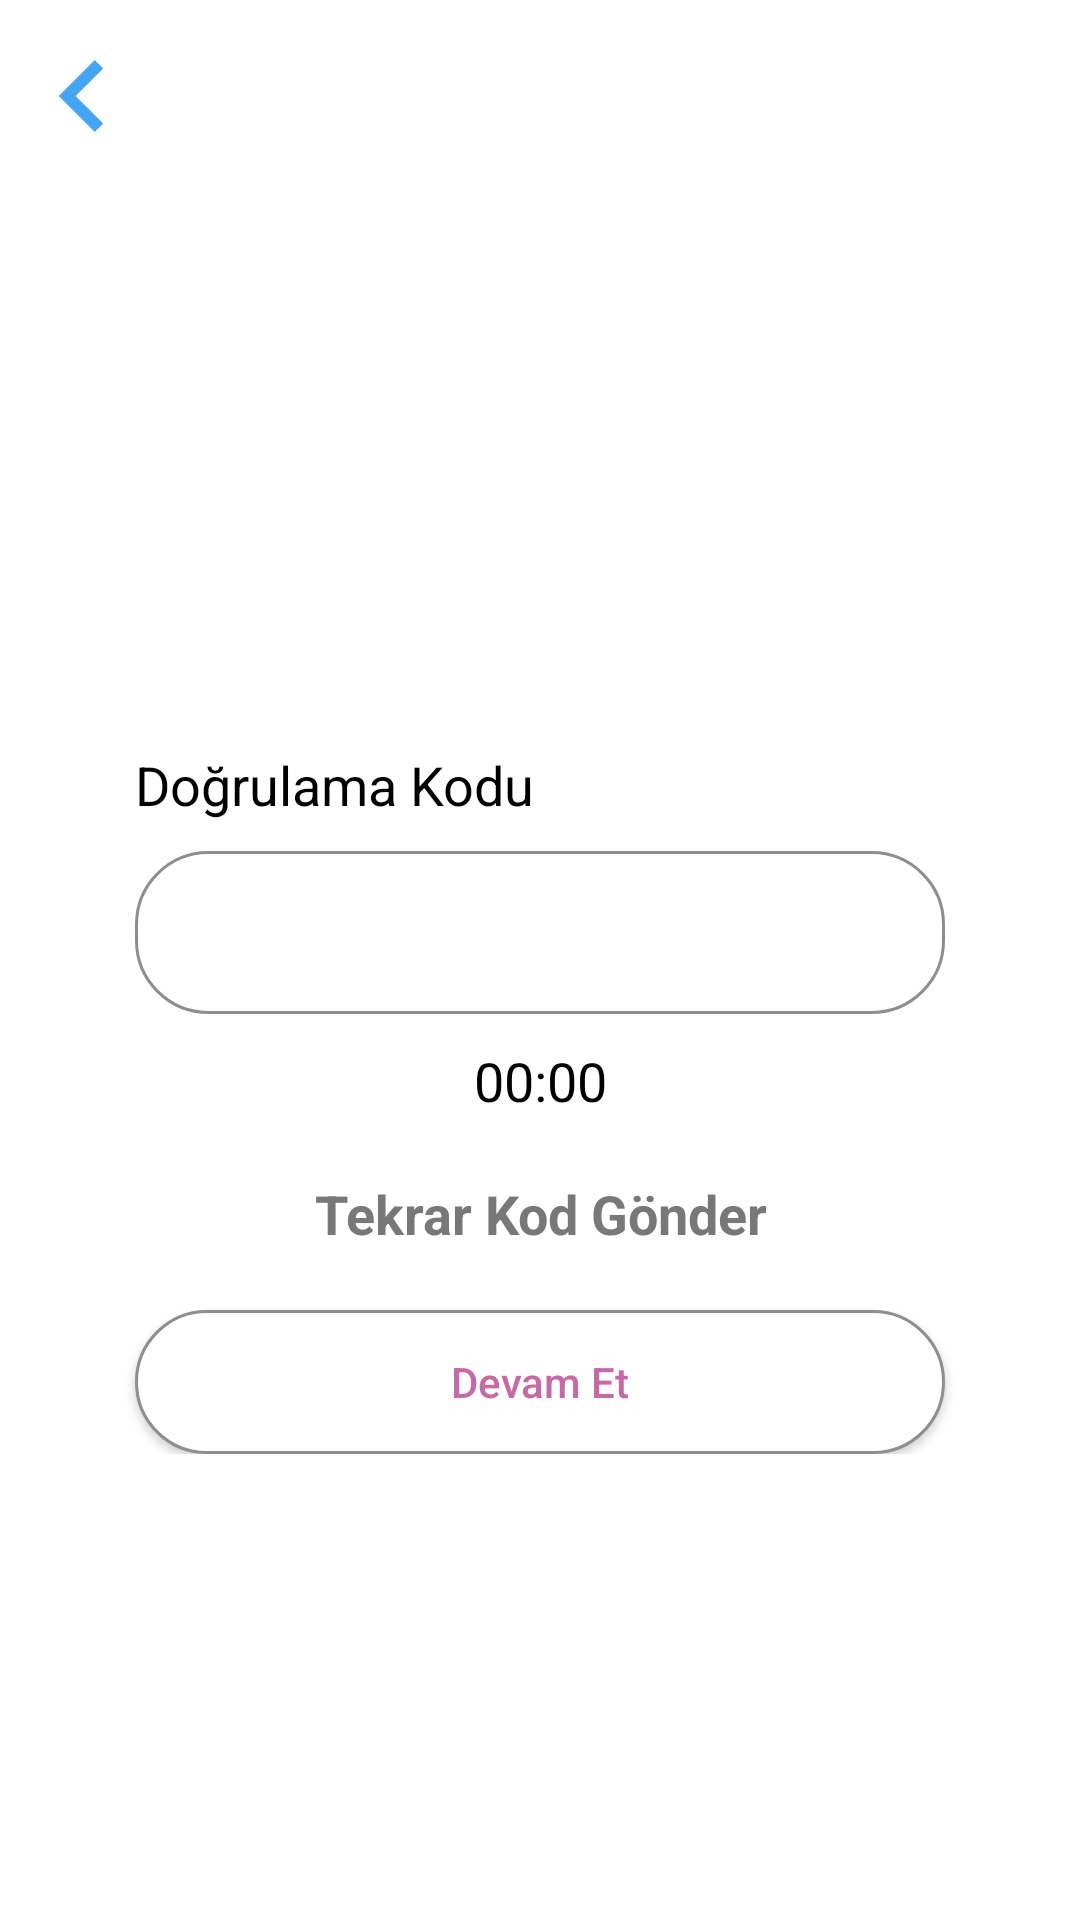

Icon click points for this 1080px x 1920px phone screenshot, format [x,y]:
keyboard left arrow: [81,96]
